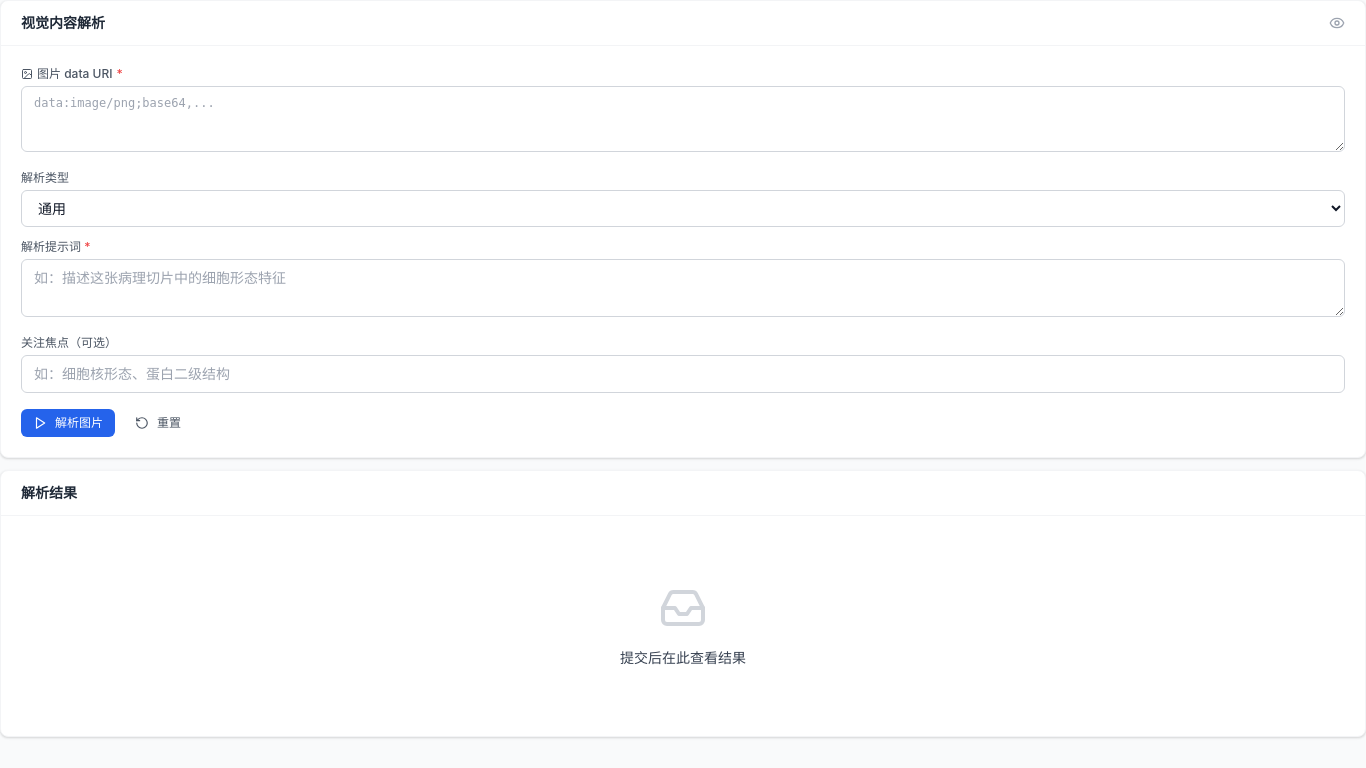
Test: VisionAnalyzerCard › 空表单提交显示验证错误
Click the button "解析图片" at point(68, 423), box [21,409,115,437]
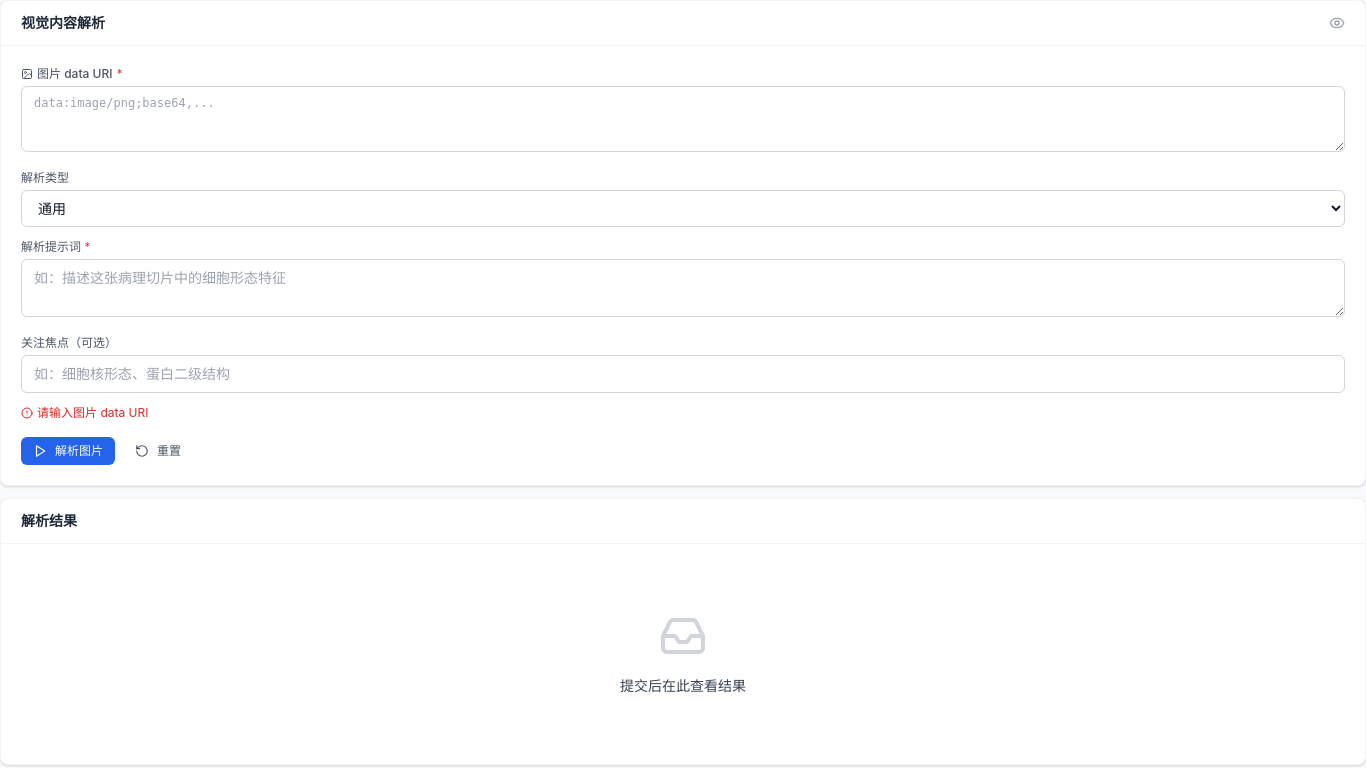
Expected: the text "请输入图片 data URI" is shown, [37,405,148,421]
